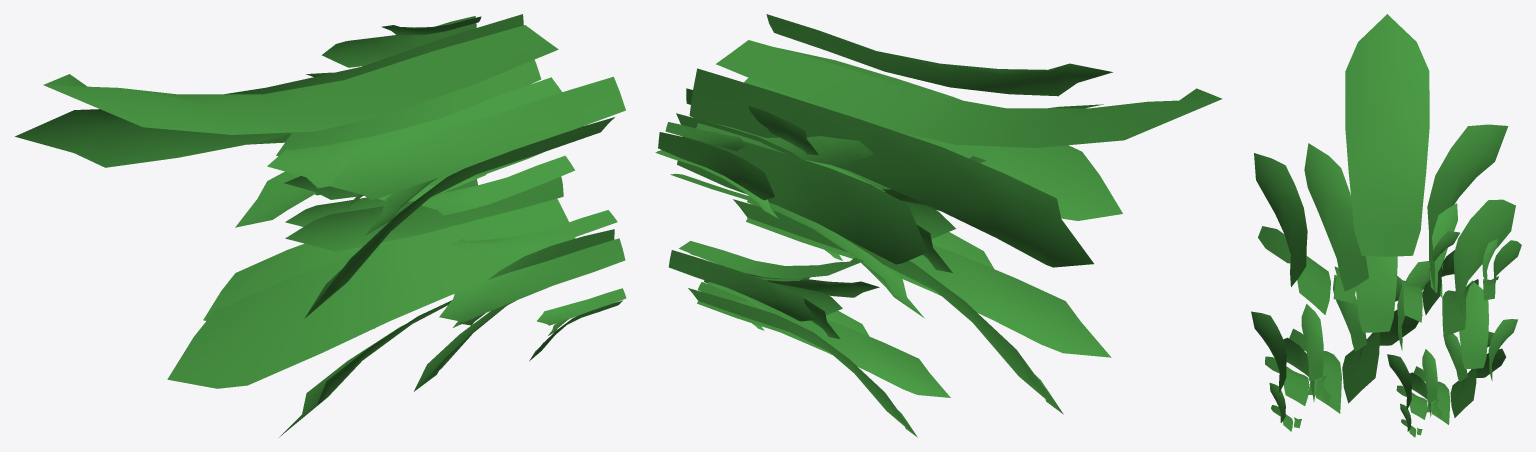
File: Grass02.glb
3 views of the same model, side by side, from view 1: azimuth 30°, elevation 25°; view 2: azimuth 150°, elevation 25°; view 3: azimuth 270°, elevation 25° (orthographic). The views are drawn at different scales.
Visible parts, largest first — view 1: Grass; view 2: Grass; view 3: Grass.
Boxes of the visible parts, bbox=[...] form: Grass: bbox=[15, 14, 626, 437]; Grass: bbox=[655, 14, 1222, 437]; Grass: bbox=[1251, 14, 1521, 437].
Bounding box in the file's own units: 0.197 × 0.1256 × 0.1149.
